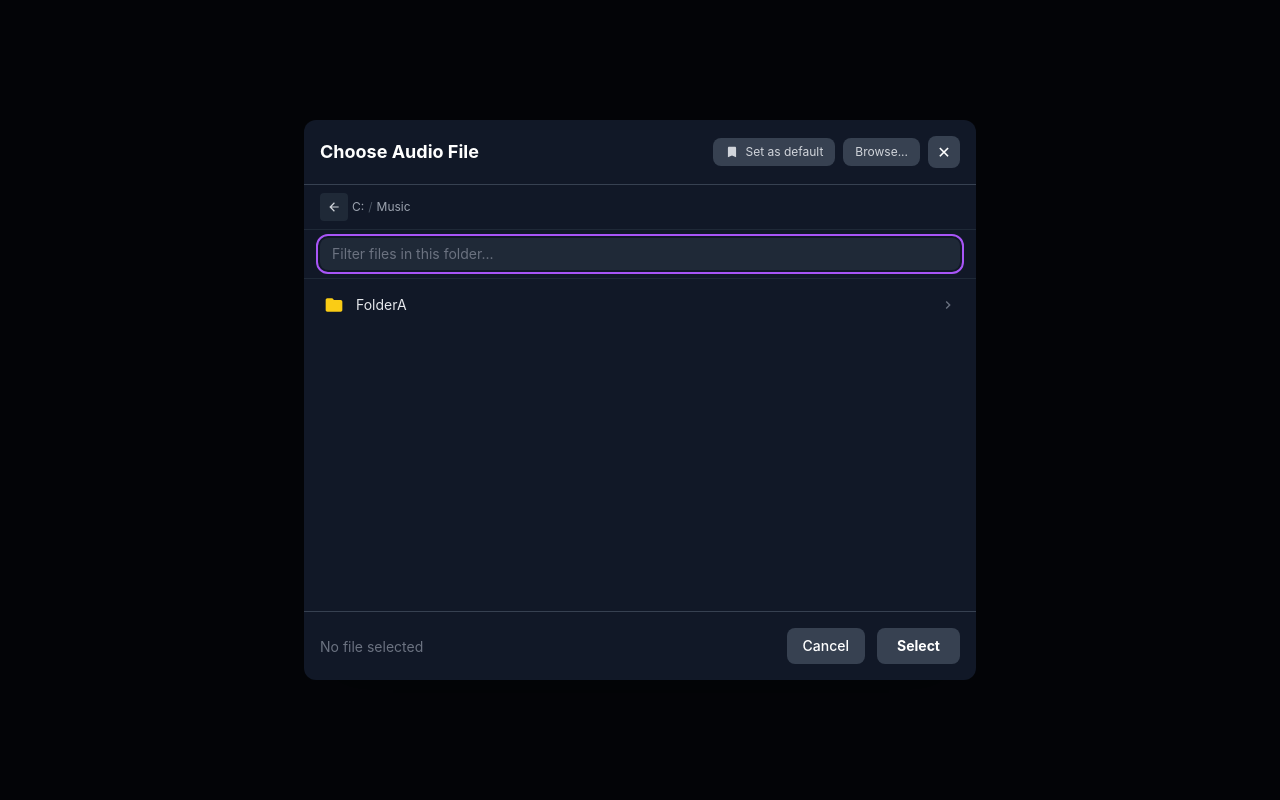
Test: AudioFilePicker — loading state › an out-of-order listDirectory response cannot overwrite a newer one
Double-click the text "FolderA" at [381, 304], box [356,296,407,313]
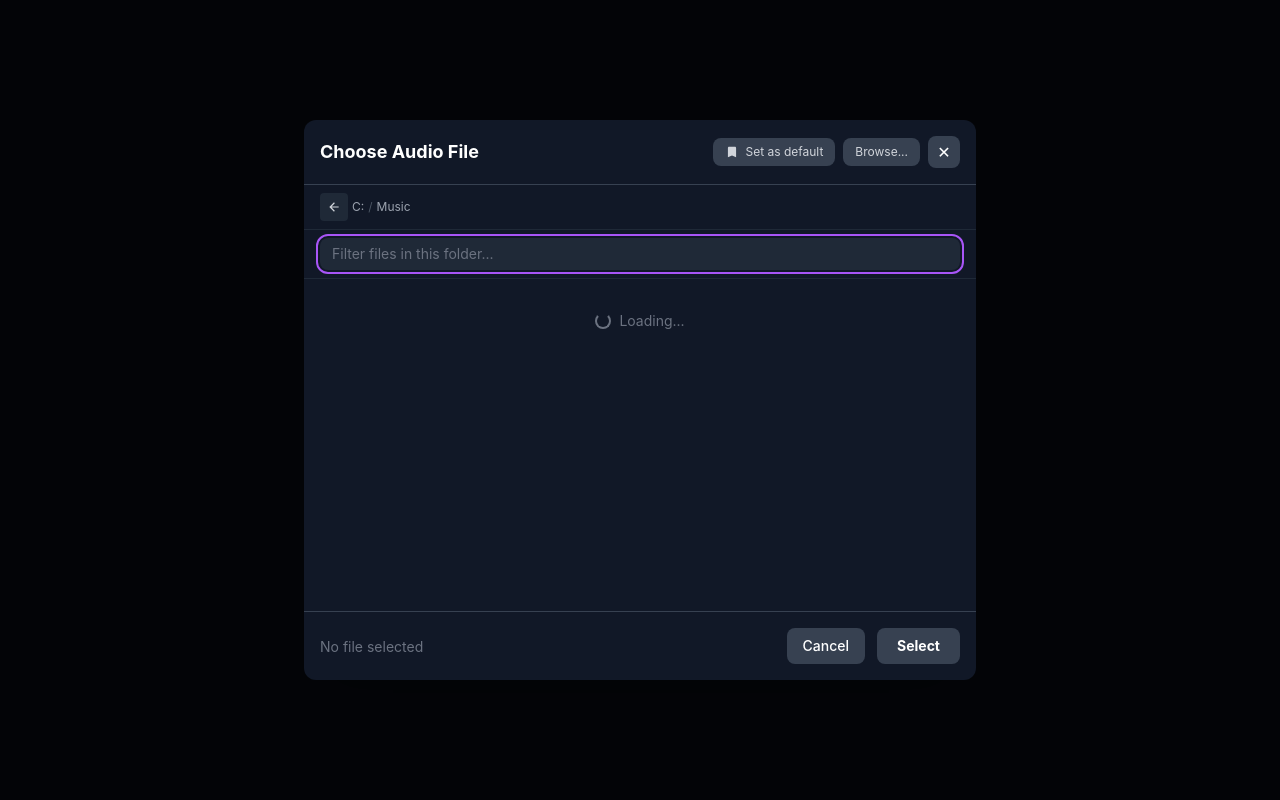
Click the button titled "Go up" at [334, 207], box [320,193,348,221]
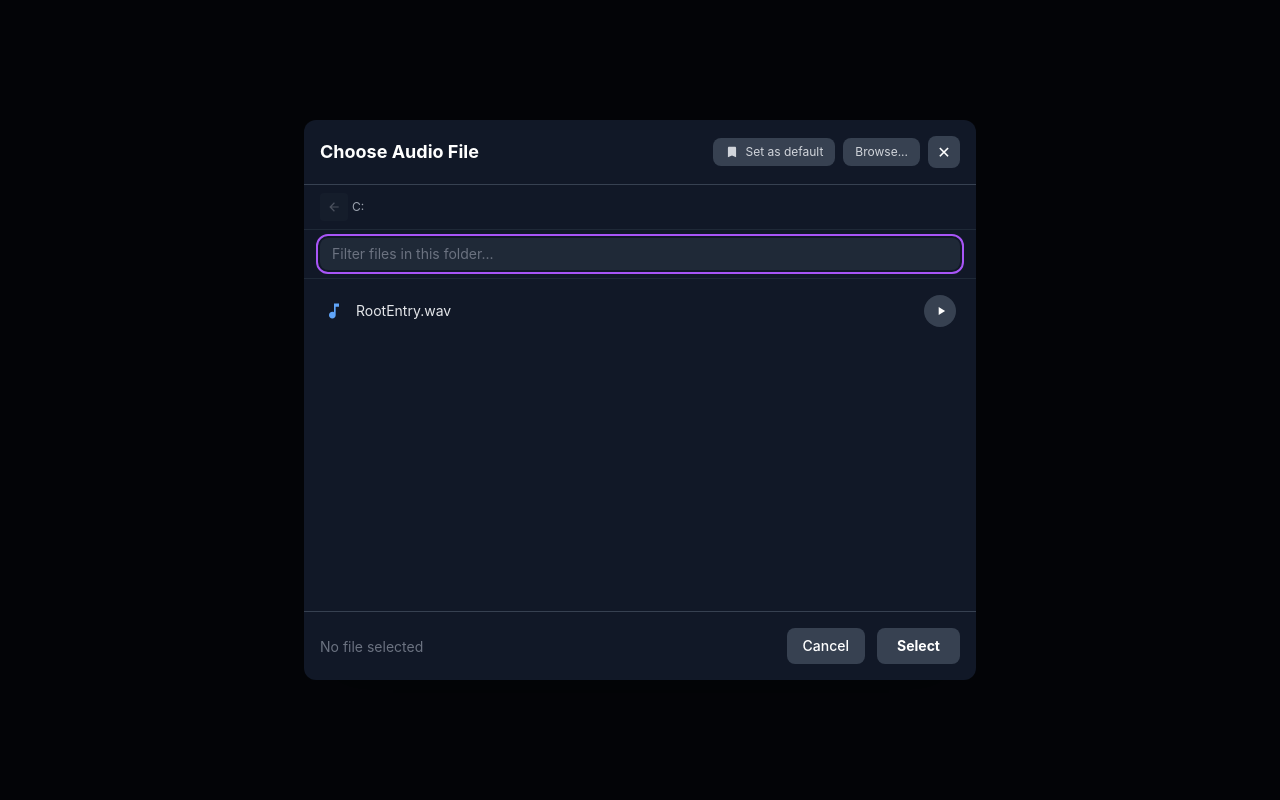
Now the text "RootEntry.wav" is shown, box [356,302,451,319]
